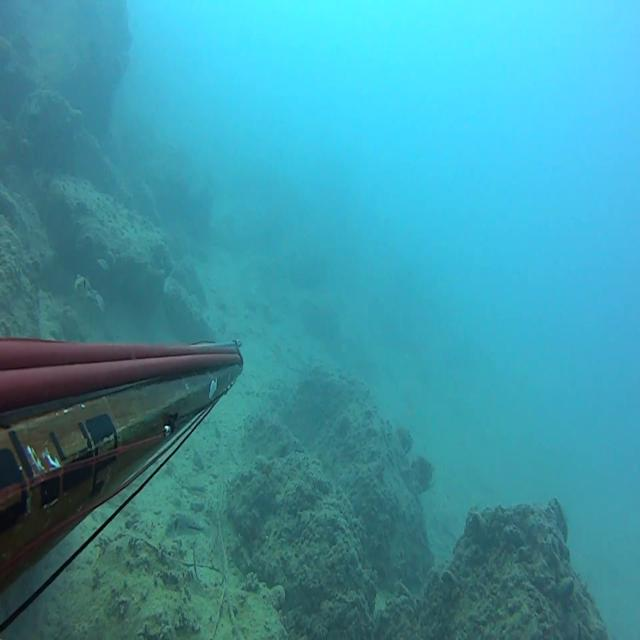Balon Baligi: (165, 512, 212, 538), (75, 274, 105, 311)
